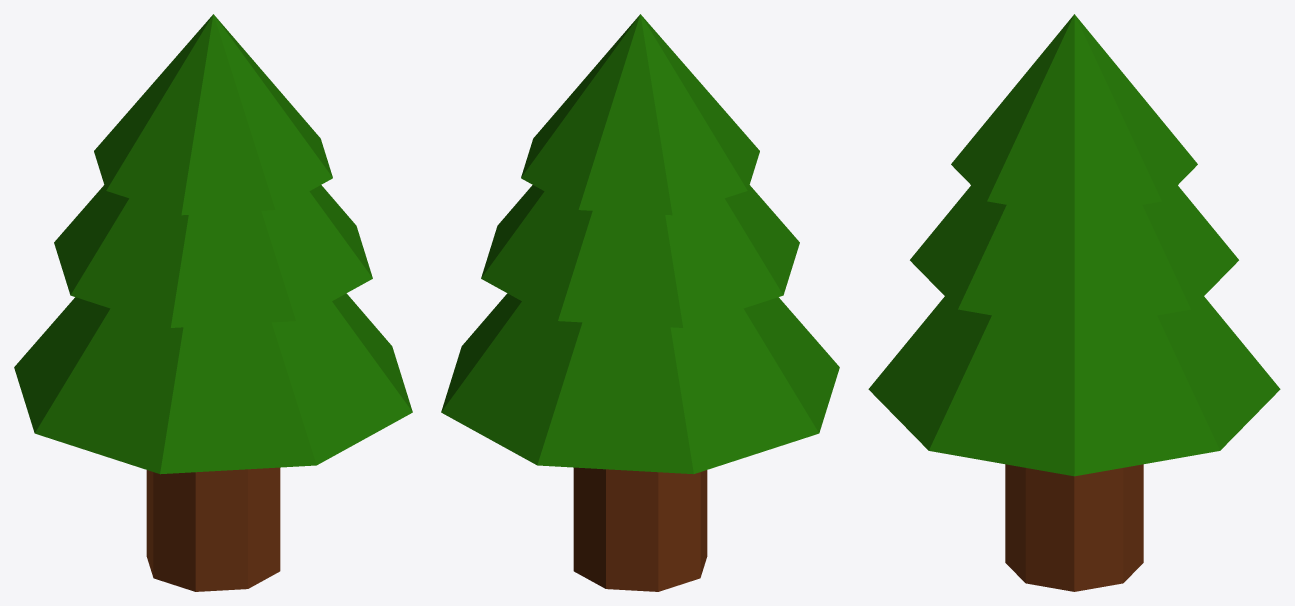
The model's file is Pinheiro.fbx.
The picture shows the model from 3 angles, left to right: view 1: azimuth 30°, elevation 25°; view 2: azimuth 150°, elevation 25°; view 3: azimuth 270°, elevation 25°; orthographic projection.
Parts seen in each view (by area): view 1: Arvore_Objeto; view 2: Arvore_Objeto; view 3: Arvore_Objeto.
Boxes of the visible parts, x1=… form: Arvore_Objeto: x1=14, y1=14, x2=412, y2=591; Arvore_Objeto: x1=441, y1=14, x2=839, y2=591; Arvore_Objeto: x1=868, y1=14, x2=1280, y2=591.
Bounding box in the file's own units: 298 × 438 × 298.
